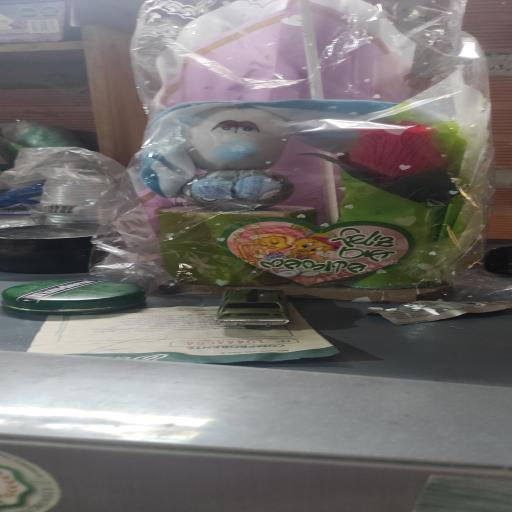Carrito: (217, 289, 289, 325)
